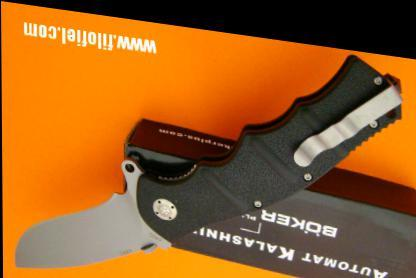knife: (7, 133, 180, 275)
